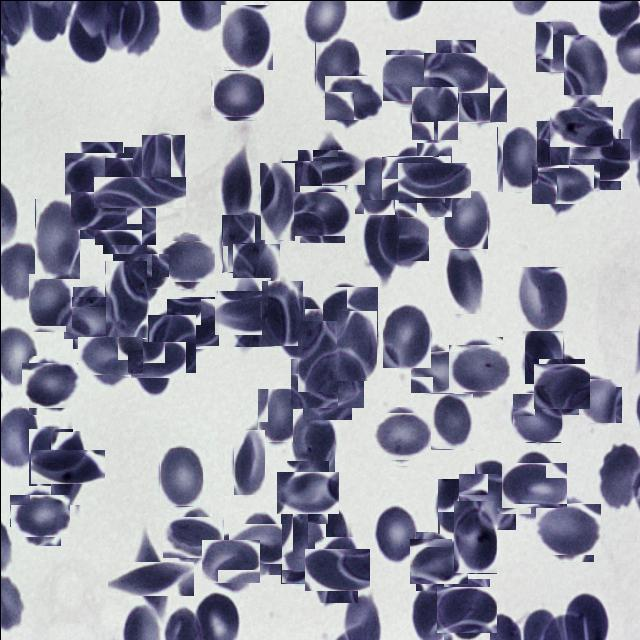red blood cell: (108, 161, 170, 223), (296, 352, 358, 412), (34, 198, 79, 279), (120, 548, 180, 608), (538, 498, 597, 558), (386, 150, 446, 208), (220, 4, 272, 69), (69, 146, 127, 204), (280, 510, 326, 583), (316, 282, 374, 339), (104, 260, 146, 338), (452, 500, 496, 573), (517, 266, 567, 330), (220, 283, 276, 340), (443, 240, 486, 313), (506, 456, 562, 512), (563, 34, 609, 101), (467, 465, 522, 521), (382, 303, 430, 367), (40, 439, 94, 494), (406, 152, 461, 206), (374, 408, 428, 462), (452, 340, 506, 394), (309, 542, 363, 596), (439, 582, 493, 636), (496, 126, 540, 192), (296, 320, 336, 392), (277, 296, 322, 359), (363, 199, 398, 280), (124, 332, 176, 386), (336, 310, 376, 380), (147, 314, 195, 372), (308, 502, 350, 568), (260, 280, 302, 346), (25, 358, 77, 411), (233, 517, 286, 569), (429, 45, 481, 98), (281, 465, 333, 518), (84, 329, 136, 382), (373, 502, 418, 563), (259, 162, 294, 240), (412, 534, 464, 586), (67, 291, 119, 343), (554, 100, 606, 152), (98, 196, 150, 248), (292, 408, 334, 472), (13, 489, 65, 540), (305, 141, 357, 192), (327, 71, 378, 123), (573, 133, 625, 184), (382, 51, 433, 102), (536, 158, 587, 209), (296, 188, 347, 239), (168, 510, 218, 562), (27, 273, 71, 332), (140, 134, 184, 192), (28, 426, 72, 484), (536, 361, 586, 412), (457, 70, 506, 122), (410, 86, 457, 140), (159, 447, 202, 506), (212, 68, 262, 118), (167, 297, 217, 347), (205, 536, 255, 586), (375, 213, 425, 263), (221, 214, 264, 272), (444, 190, 487, 248), (256, 388, 302, 442), (428, 393, 472, 449), (314, 40, 358, 96), (353, 156, 394, 214), (512, 392, 560, 441), (162, 237, 212, 284), (534, 21, 580, 72), (232, 243, 279, 291), (74, 186, 122, 233), (436, 478, 476, 534), (221, 148, 252, 220), (535, 120, 574, 177), (281, 160, 321, 215), (524, 326, 562, 383), (117, 248, 163, 294), (412, 348, 458, 394), (232, 429, 264, 495), (577, 378, 621, 423)
